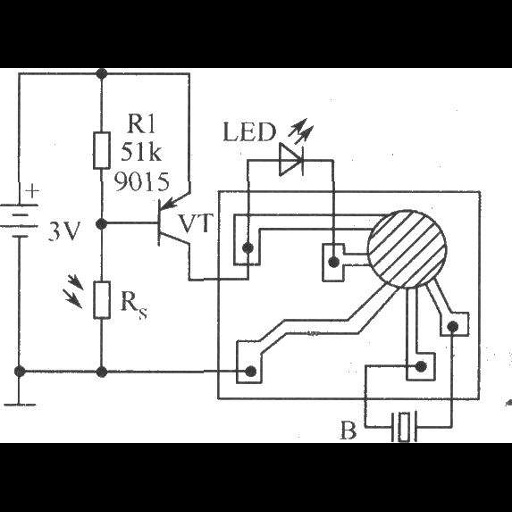battery: (1, 182, 44, 243)
firstresistance: (90, 126, 113, 173)
npn: (150, 193, 201, 252)
secondled: (276, 113, 318, 184)
